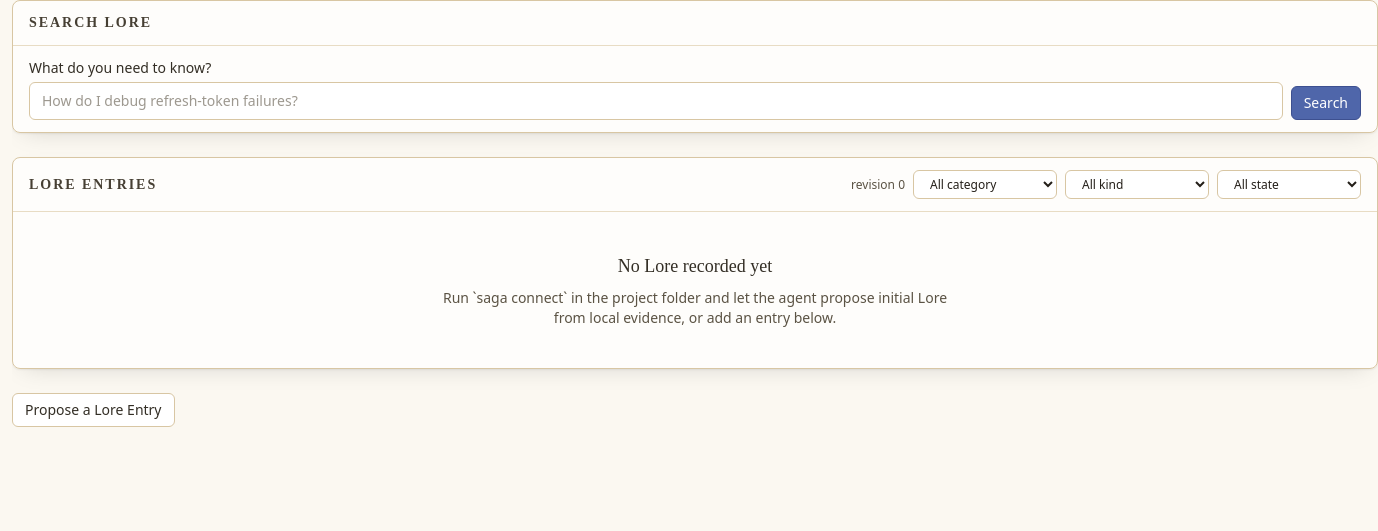
Test: Lore page › surfaces degraded search rather than pretending results are complete
Expected: the text "No Lore recorded yet" is shown, [618,256,772,276]
Type "anything" into the field labelled "What do you need to know?".
click(656, 101); type("anything")  # box [29,82,1283,120]
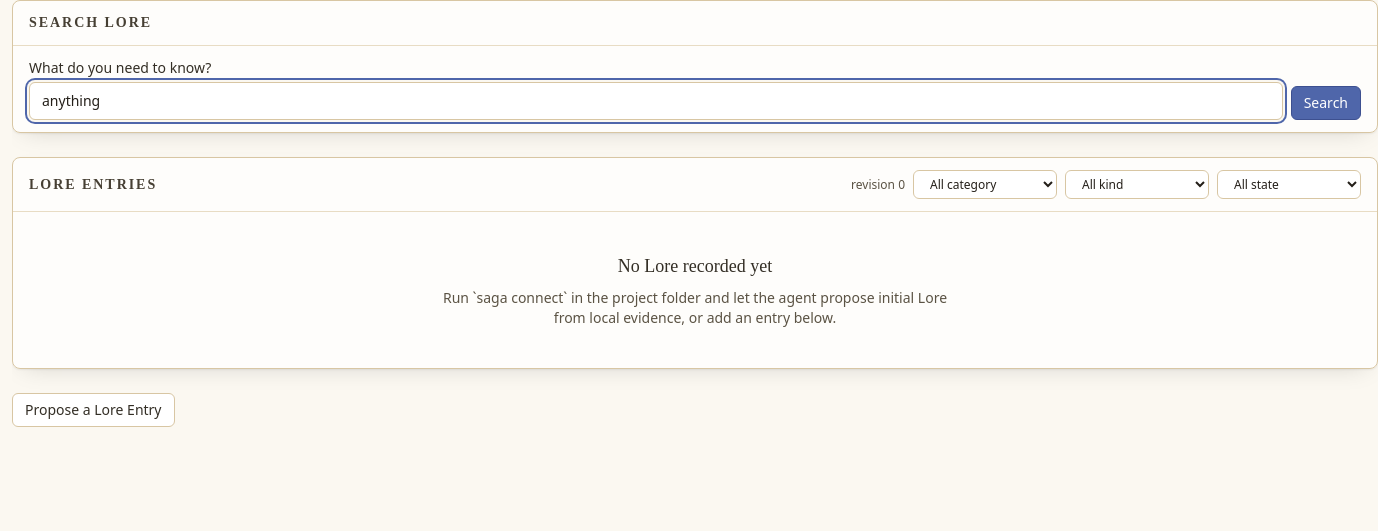
Click the button "Search".
click(1326, 103)  # box [1291,86,1361,120]
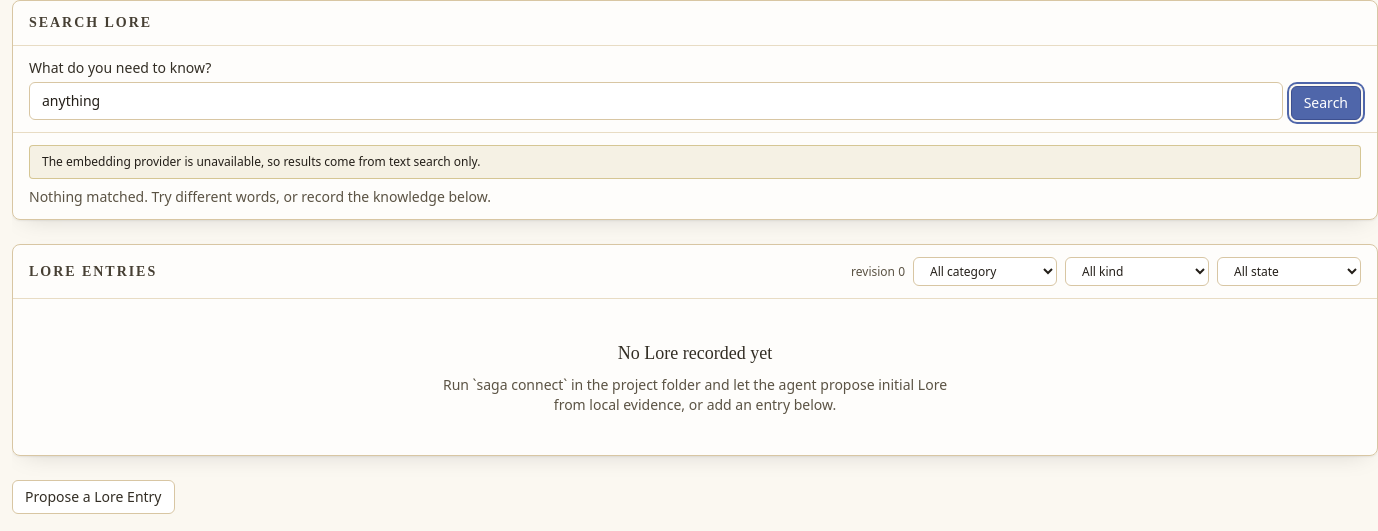
Expected: the text "embedding provider is unavailable" is shown, [42,153,480,170]
